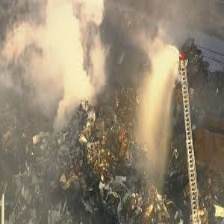smoke: (7, 1, 114, 128)
